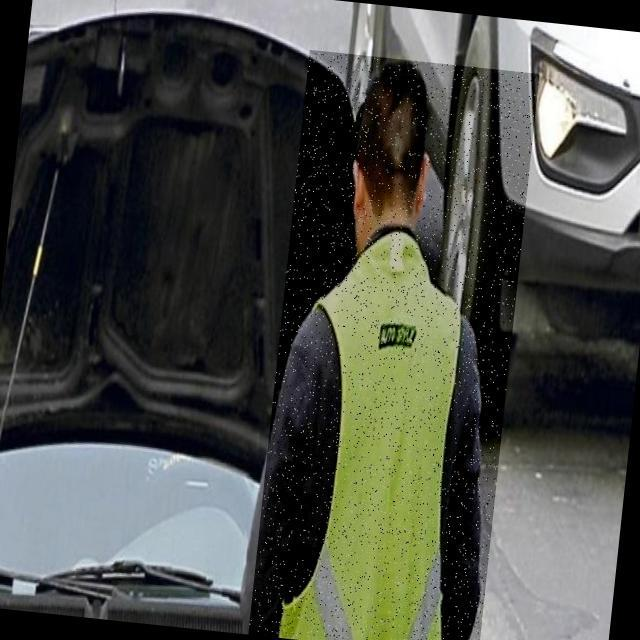Person: (234, 55, 498, 640)
Safety Vest: (272, 241, 478, 640)
no-helmet: (358, 60, 444, 141)
